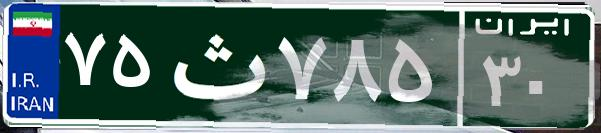0: (525, 38, 570, 115)
3: (475, 38, 525, 113)
5: (385, 28, 445, 110), (110, 28, 158, 105)
7: (273, 28, 330, 110), (57, 26, 110, 107)
8: (330, 28, 385, 110)
ث: (158, 15, 273, 115)
